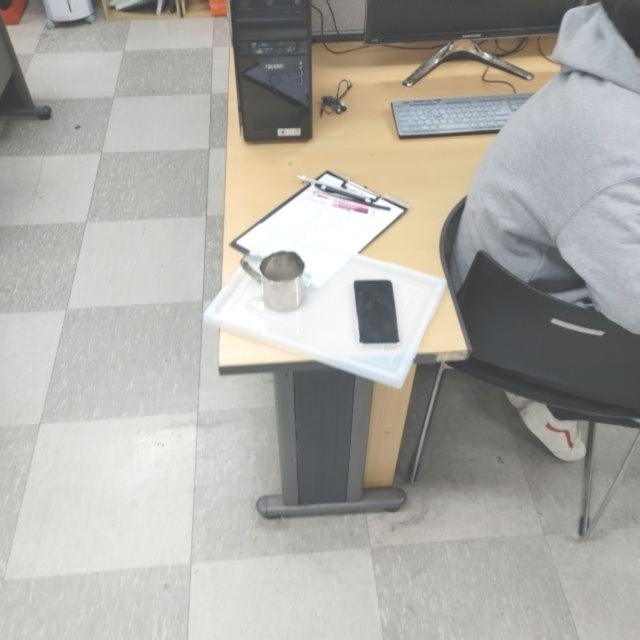cup: (240, 247, 308, 314)
phone: (351, 277, 401, 348)
